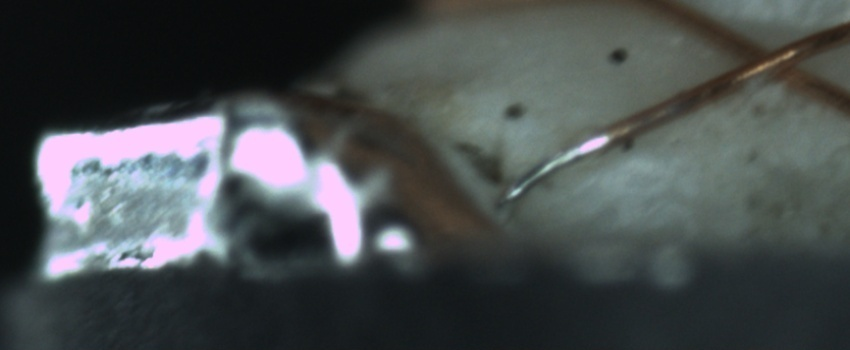CL: (722, 23, 825, 96)
TS: (496, 130, 606, 204)
TTCW: (501, 108, 647, 205)
